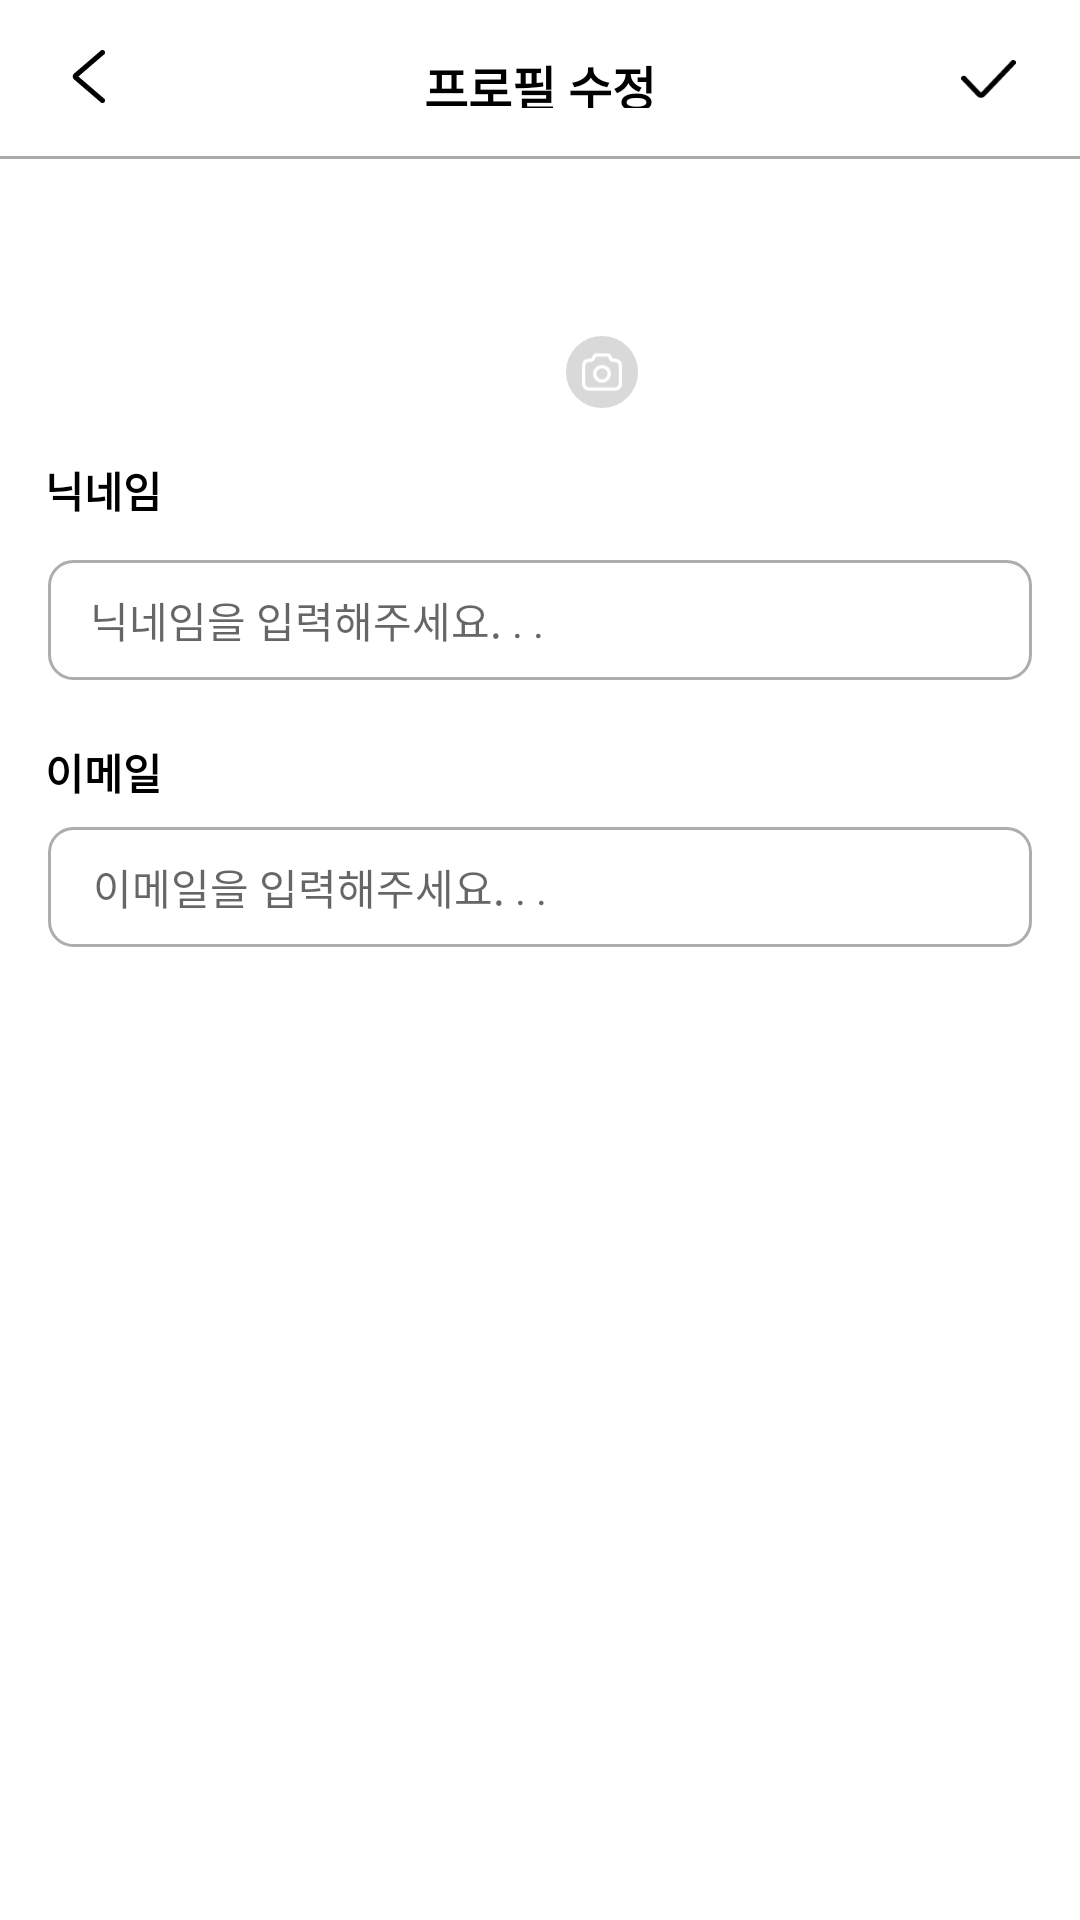

Named icons in this screenshot (1080×1920) and their centers, point (x, y):
back arrow: point (88, 76)
camera: point (602, 372)
check: point (988, 79)
